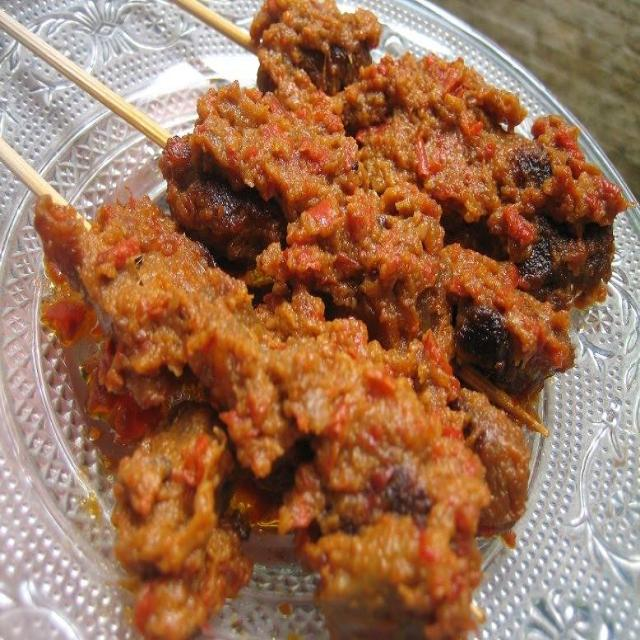Sate: (3, 0, 597, 519)
